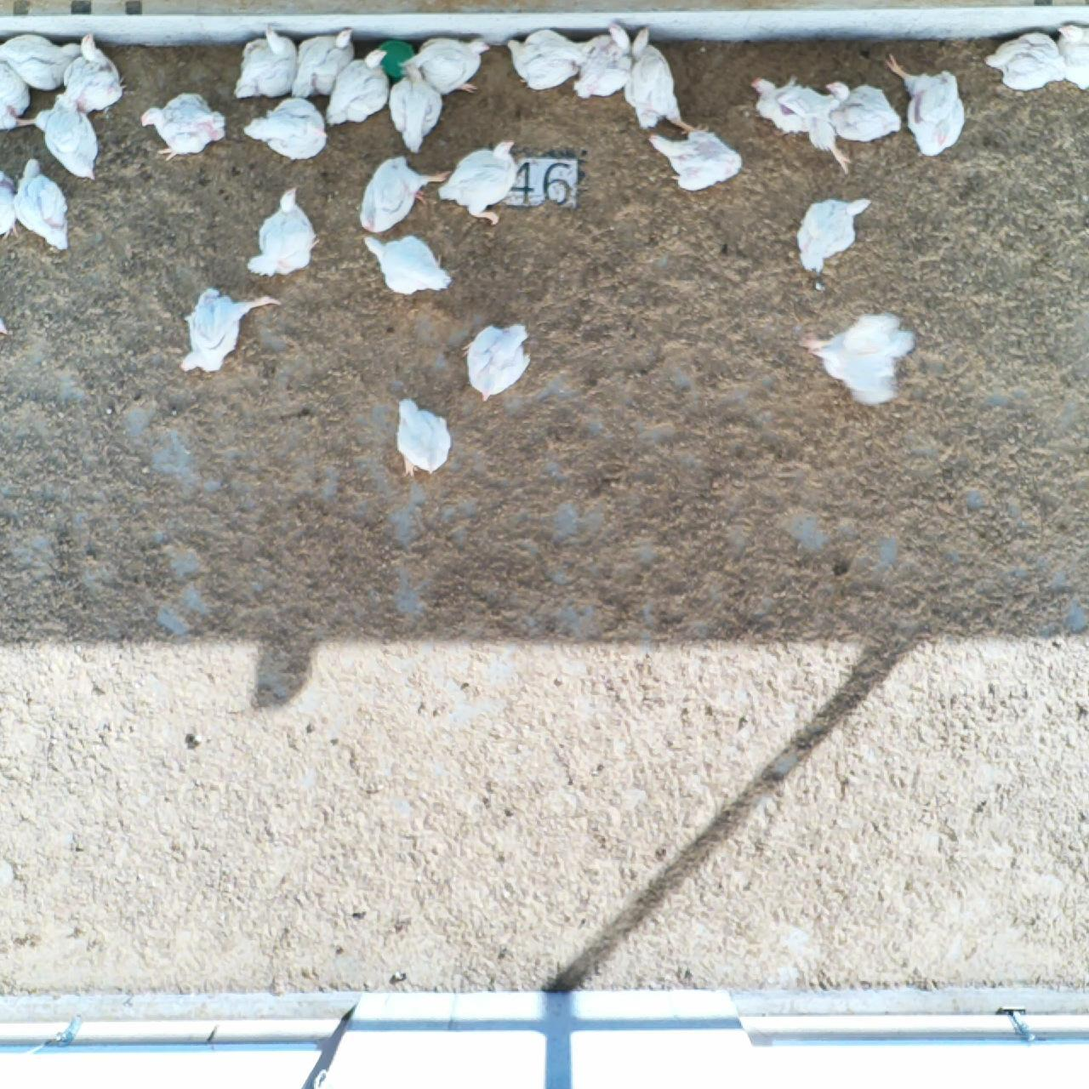chicken: (799, 311, 918, 406), (751, 77, 851, 170), (624, 28, 708, 136), (180, 288, 282, 373), (885, 54, 965, 158), (360, 156, 453, 231), (438, 141, 517, 225), (647, 129, 744, 195), (248, 186, 319, 275), (139, 92, 225, 159), (797, 198, 874, 272), (36, 92, 100, 180), (243, 97, 327, 161), (463, 324, 530, 402), (362, 236, 452, 294), (62, 34, 128, 113), (326, 48, 389, 129), (508, 28, 589, 91), (398, 37, 489, 93), (14, 159, 69, 251), (387, 64, 442, 152), (233, 25, 296, 100), (825, 80, 901, 142), (1, 35, 84, 91), (984, 30, 1063, 88), (291, 29, 355, 100), (396, 399, 451, 476), (578, 23, 630, 99), (1, 60, 36, 130), (1058, 25, 1089, 87), (1, 170, 20, 239), (1, 316, 10, 334)
